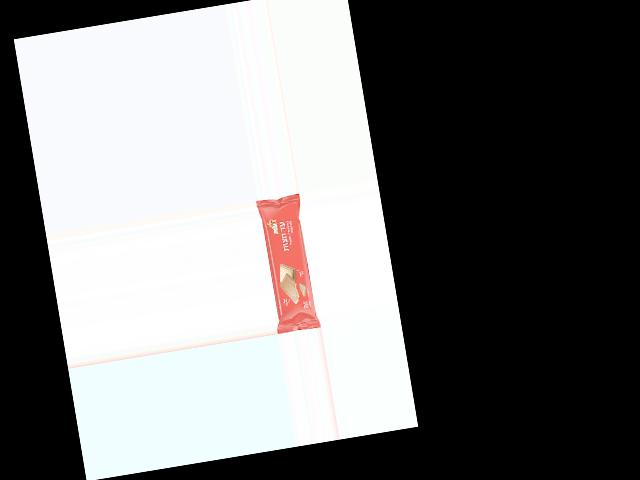chocolate: (256, 196, 321, 332)
